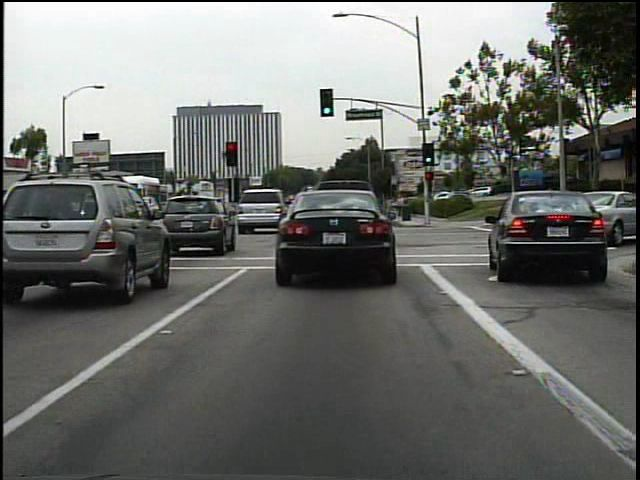person: (396, 193, 406, 220)
